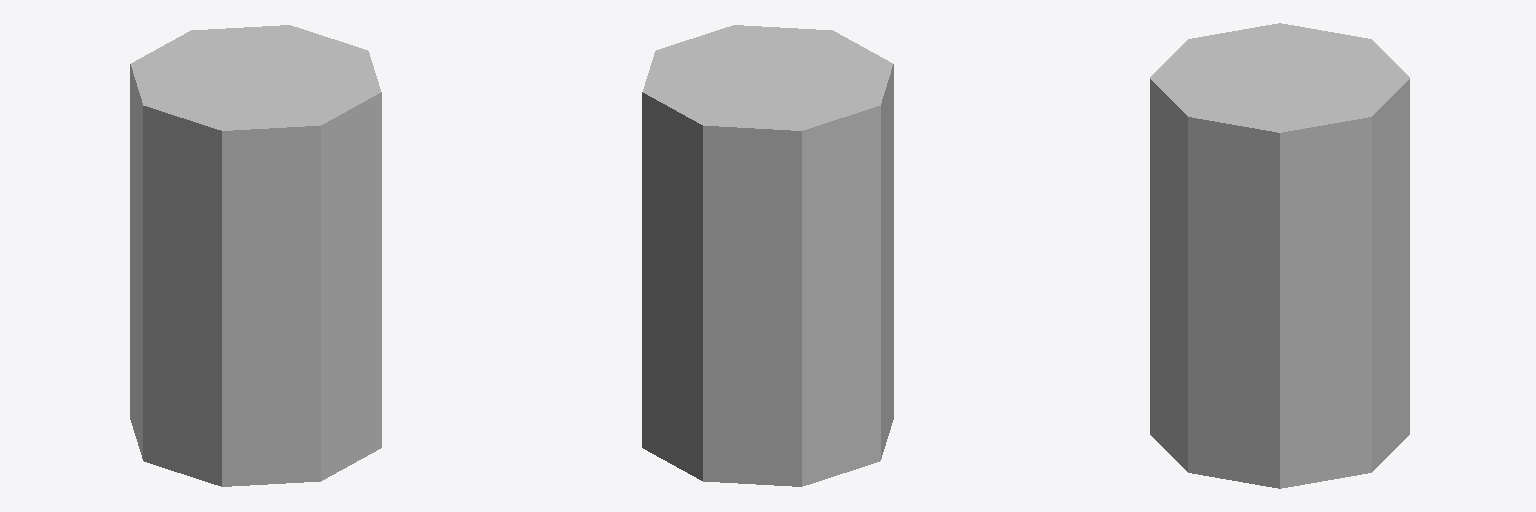
Rendered from tower_base.obj.
3 views of the same model, side by side, from view 1: azimuth 30°, elevation 25°; view 2: azimuth 150°, elevation 25°; view 3: azimuth 270°, elevation 25° (orthographic).
Visible parts, largest first — view 1: tower_base; view 2: tower_base; view 3: tower_base.
Part boxes in pixels (x1,y1,x2,y2): tower_base: (130, 25, 381, 486); tower_base: (642, 25, 893, 486); tower_base: (1150, 23, 1409, 488).
Bounding box in the file's own units: 2 × 3.02 × 2.